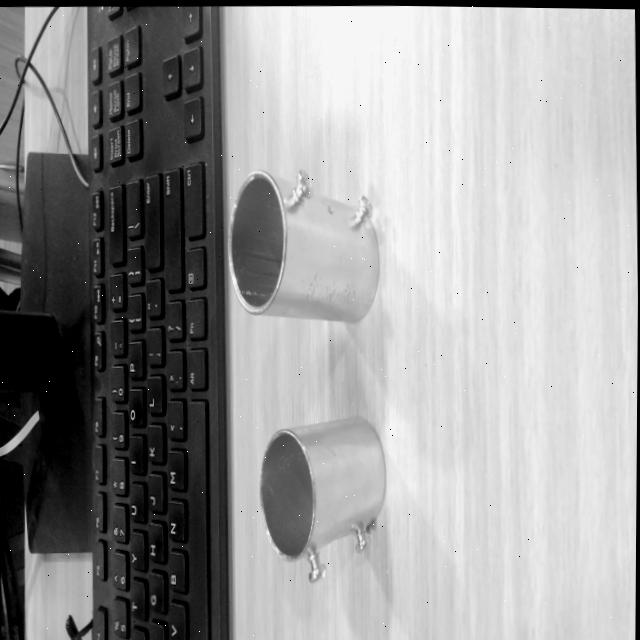Co_Lon: (221, 163, 387, 325)
Co_Nho: (251, 412, 399, 586)
